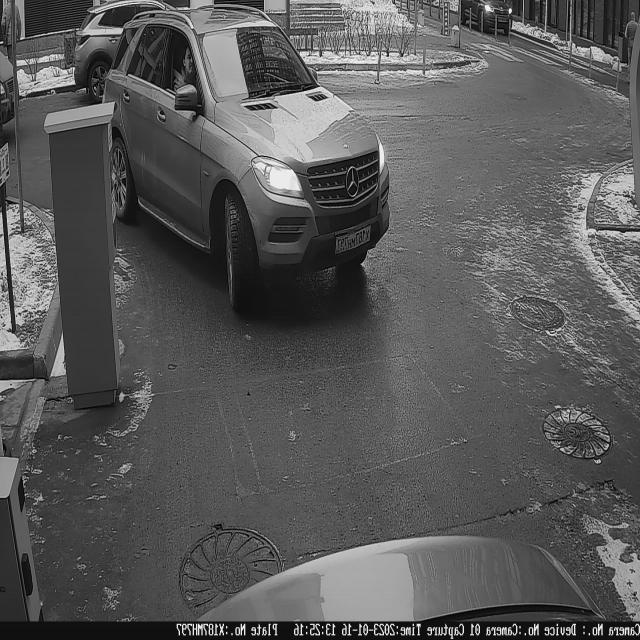car-plate-numbers: (335, 220, 375, 259)
